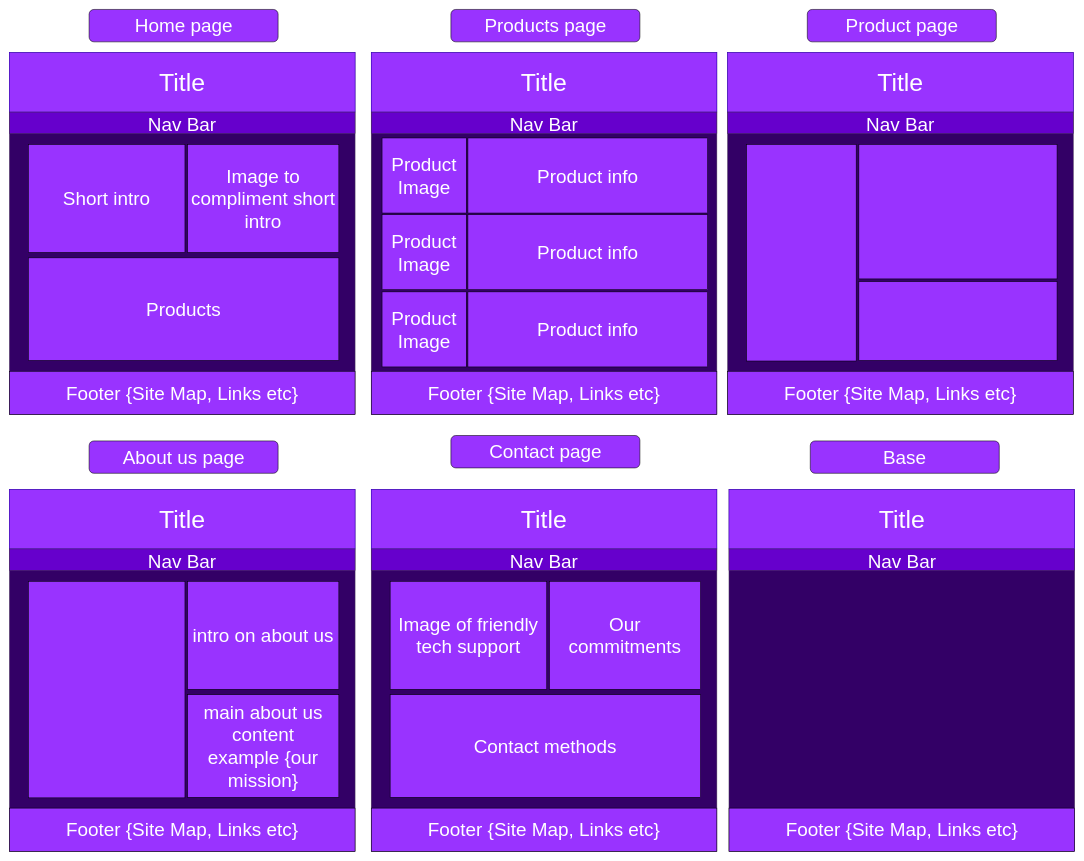
Some shapes in this 1084 by 861 pixel diagram are drawn without their labels. The shapes that lost their labels are listed below. From the top down, each one's box as (x1, y1, x2, y2) in pixels, then its label:
(858, 144, 1057, 279): Product information
(746, 144, 856, 361): Large Image of Product / products in bundle (Gallery)
(858, 281, 1057, 360): Buying options
(28, 581, 185, 798): Image of team (mock / stock)
